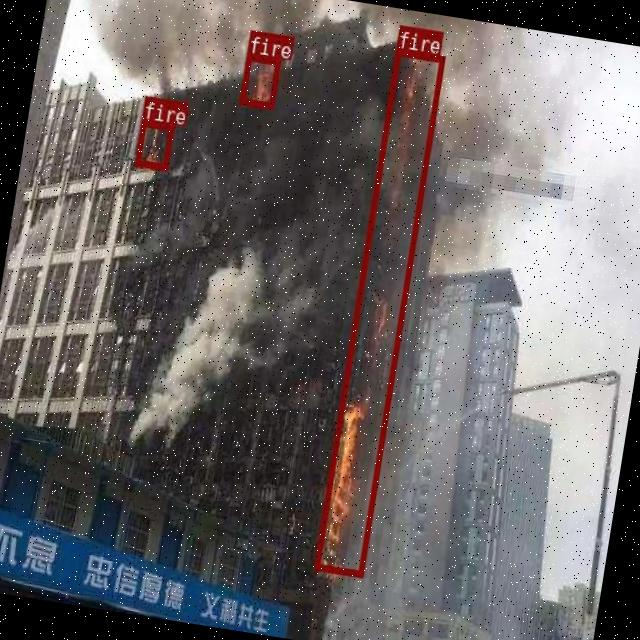fire: (313, 48, 444, 576), (238, 53, 281, 109), (134, 118, 174, 169)
